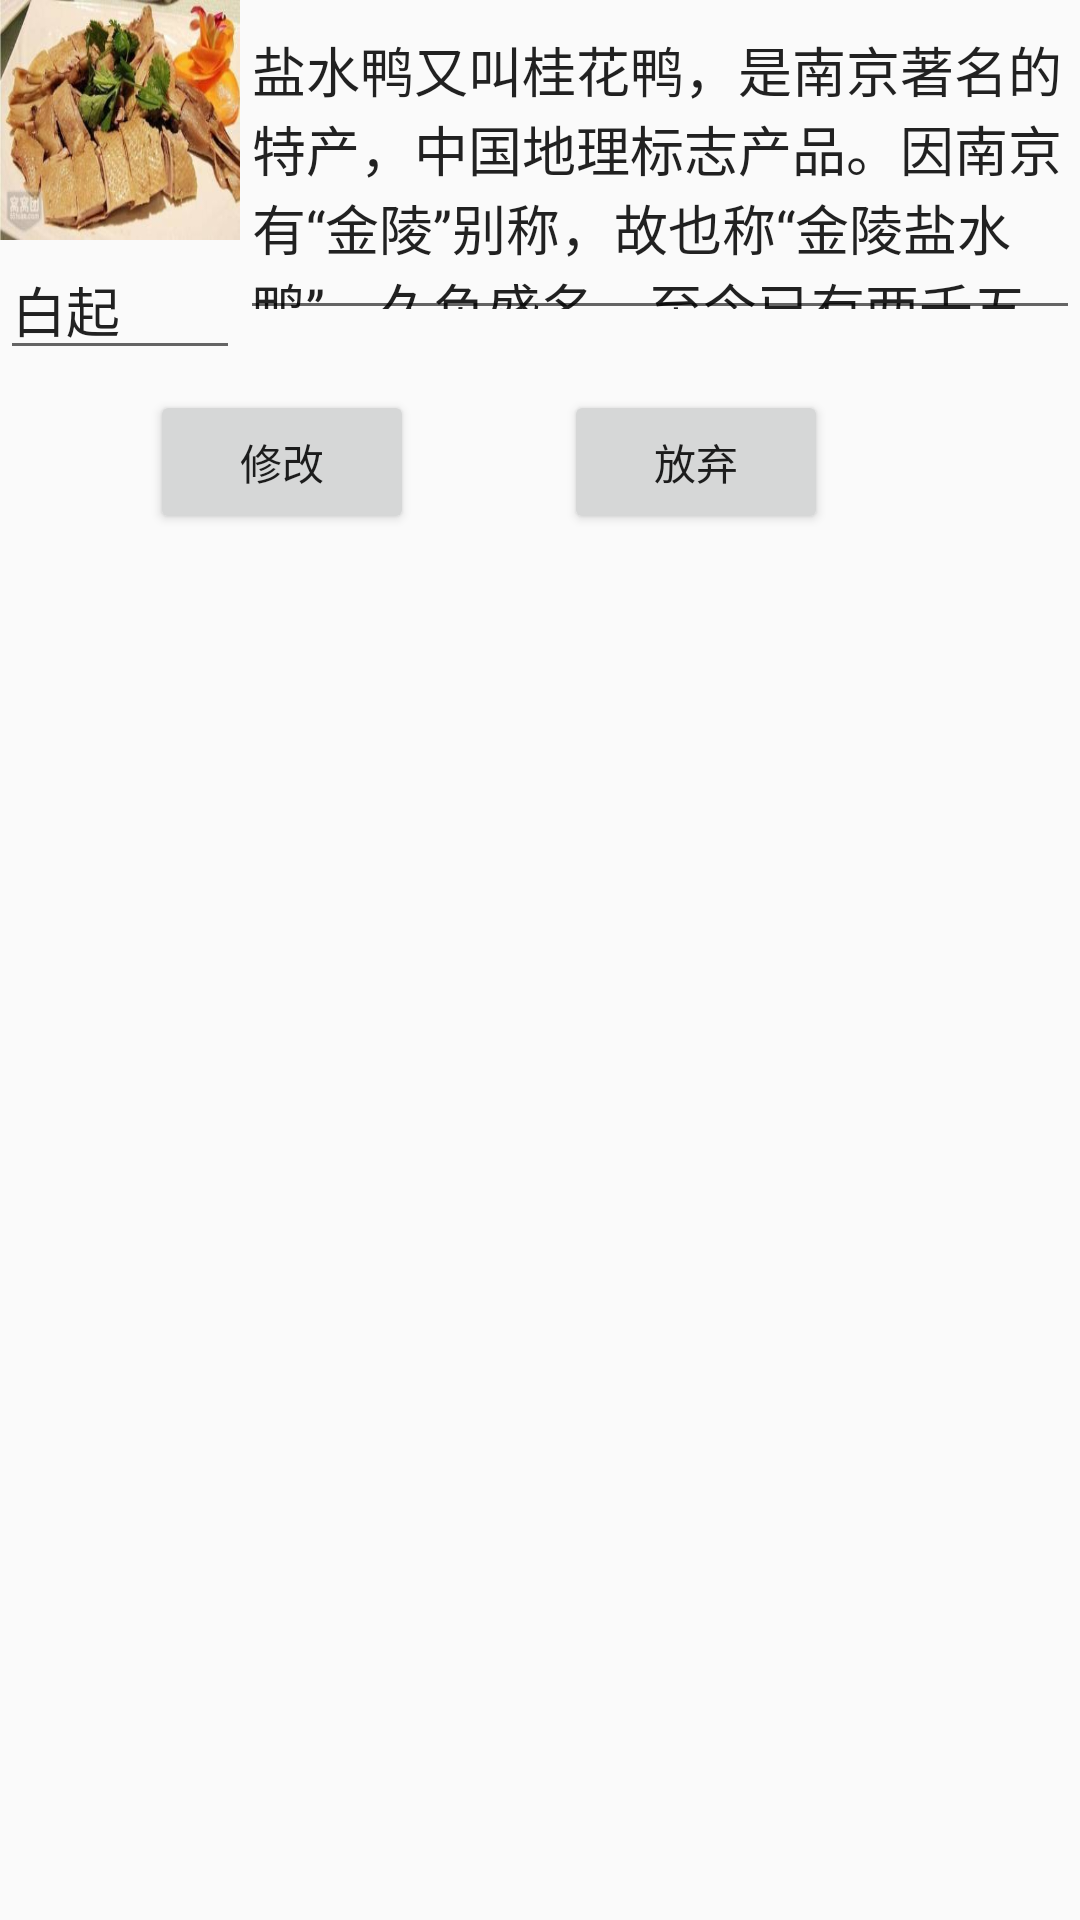

Screen size 1080 x 1920. Icon name, then its center in pixels as (x,y):
saltedduck: (120,120)
